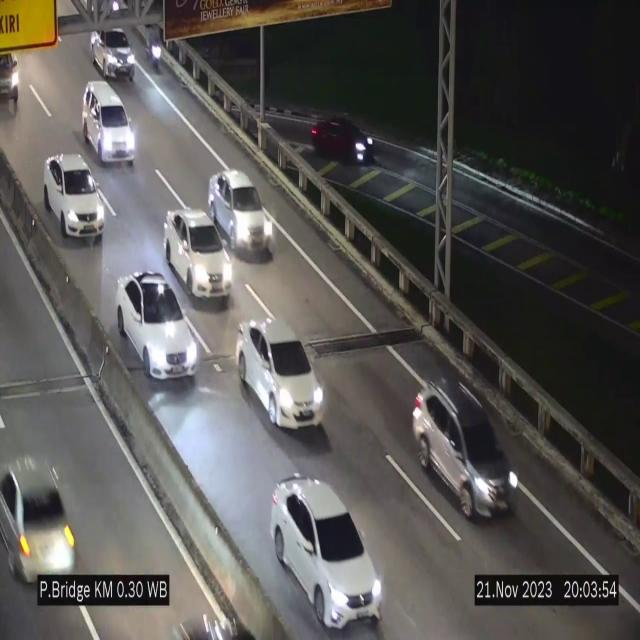Car: (270, 476, 382, 632), (412, 379, 518, 519), (0, 431, 78, 597), (238, 319, 324, 429), (114, 271, 198, 380), (164, 209, 232, 303), (208, 170, 271, 258), (44, 153, 105, 239), (304, 108, 382, 174), (82, 81, 136, 163), (0, 25, 34, 115), (90, 29, 134, 80)
Motorcycle: (148, 28, 168, 78)
